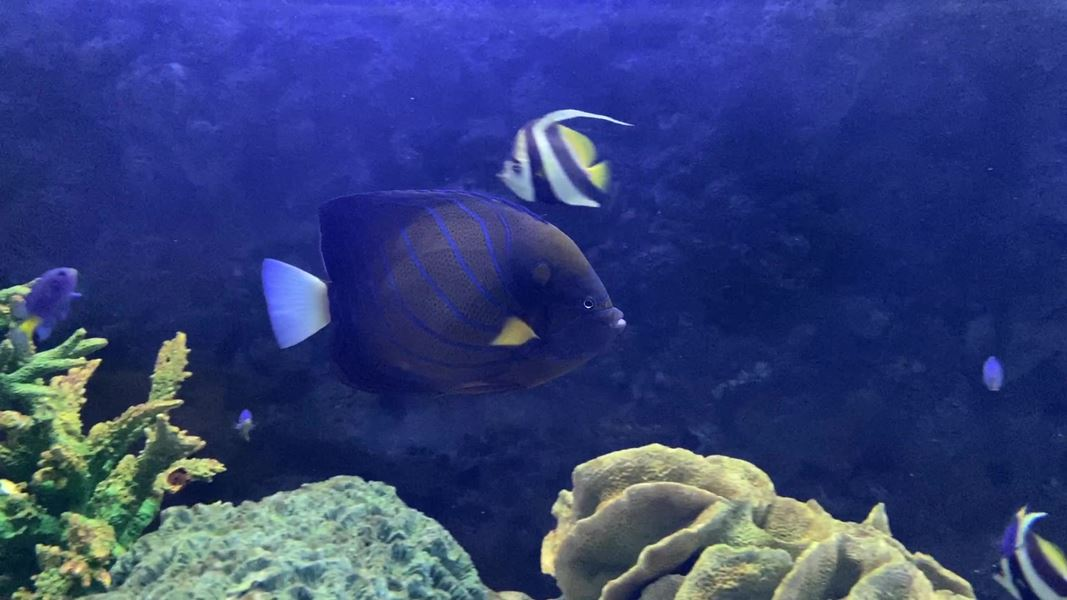Blue ring angelfish: (236, 174, 654, 418)
